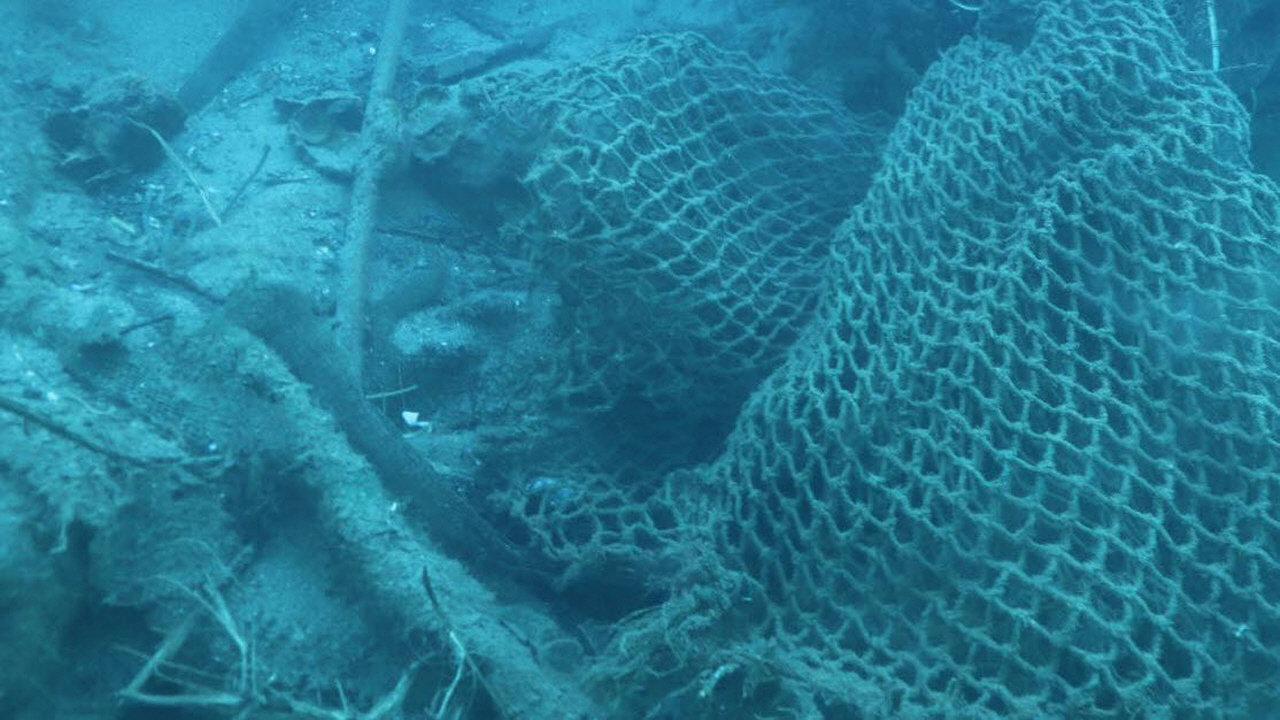fish net: (514, 0, 1280, 720)
